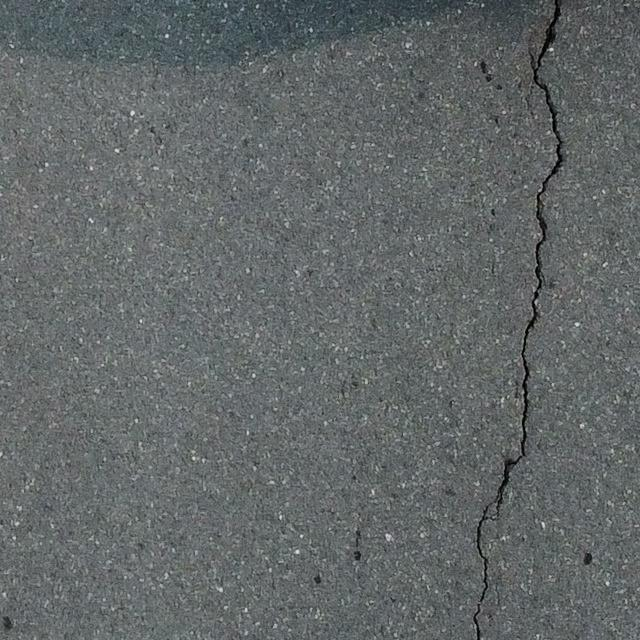LongitudinalCrack: (470, 1, 566, 640)
